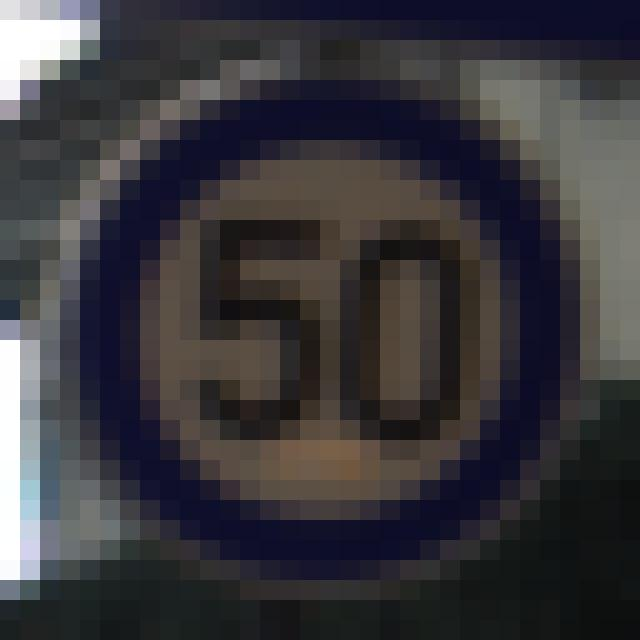SPEED LIMIT 50: (102, 136, 558, 524)
